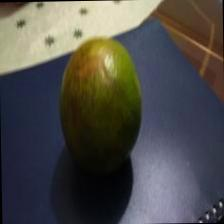Orange Rotten: (51, 26, 151, 184)
